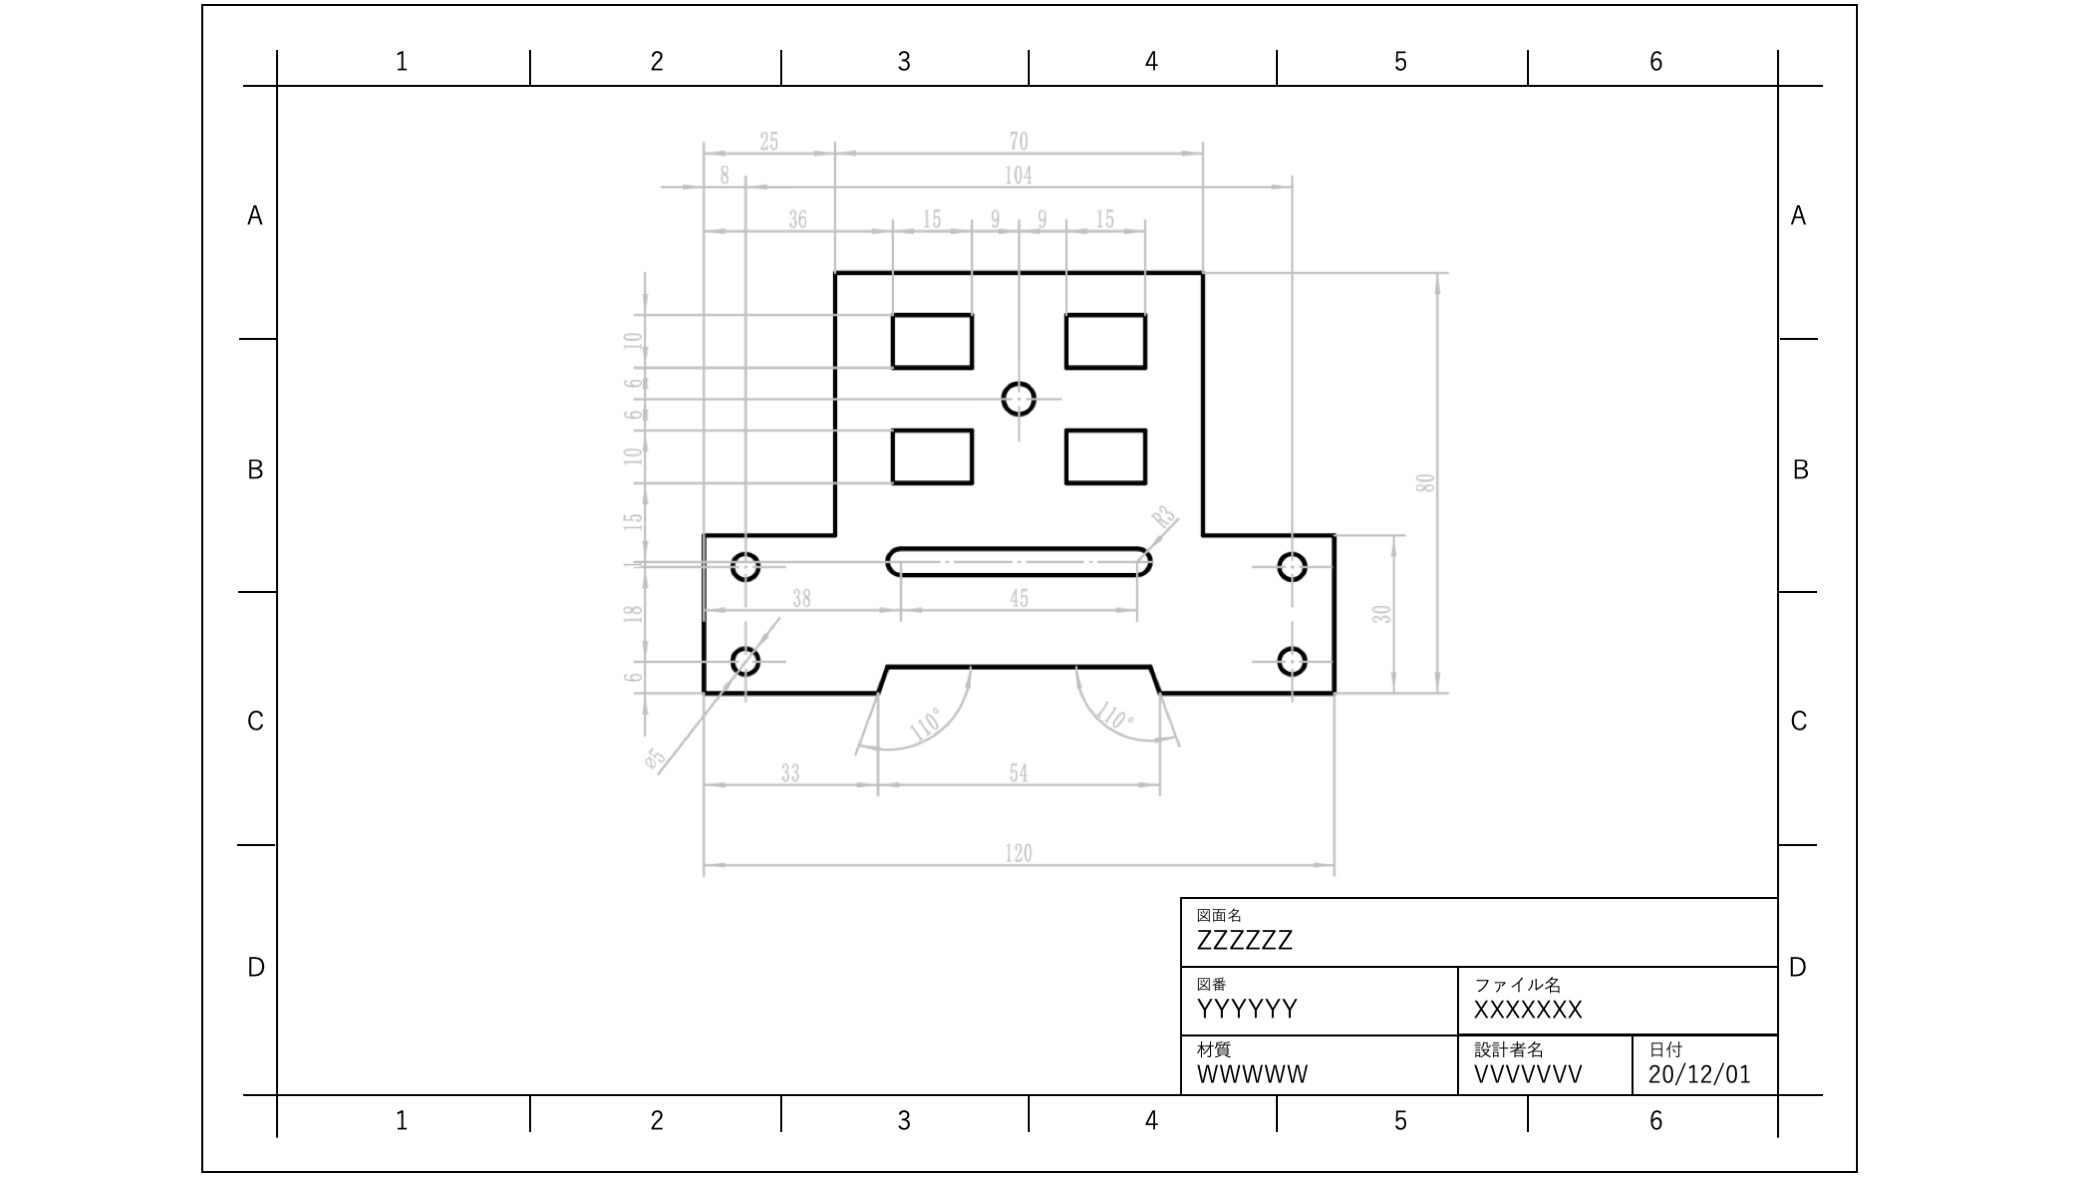circle: (1002, 369, 1051, 430), (1266, 632, 1320, 676), (727, 634, 777, 681), (718, 547, 775, 584), (1271, 545, 1311, 590)
rectangle: (878, 300, 979, 378), (1053, 298, 1148, 381), (878, 412, 979, 489), (1059, 414, 1158, 487)
round_rectangle: (881, 536, 1152, 581)
